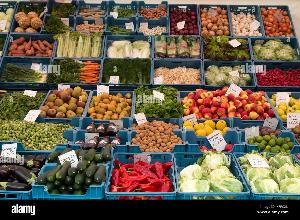apple: (179, 89, 272, 121), (39, 86, 86, 120), (268, 92, 300, 119)
bell_pepper: (112, 155, 172, 193)
carrot: (50, 63, 100, 84)
eggplant: (0, 153, 46, 191)
lime: (246, 135, 296, 153)
pear: (88, 91, 130, 121), (184, 119, 232, 138)
zucchini: (33, 164, 107, 196), (47, 144, 113, 164)
